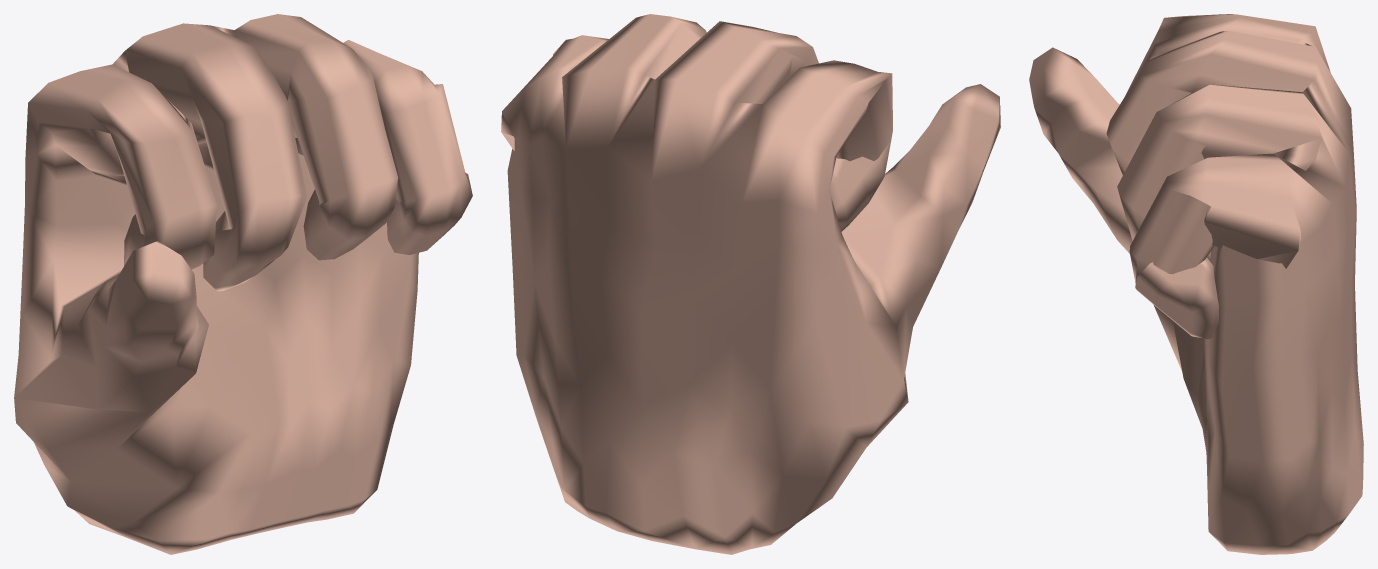
Rendered from O_CARACOL.obj.
The picture shows the model from 3 angles, left to right: view 1: azimuth 30°, elevation 25°; view 2: azimuth 150°, elevation 25°; view 3: azimuth 270°, elevation 25°; orthographic projection. The views are drawn at different scales.
Visible parts, largest first — view 1: mao_dir polySurface1; view 2: mao_dir polySurface1; view 3: mao_dir polySurface1.
Part boxes in pixels (box(x1,y1,x2,y2)): mao_dir polySurface1: box(14, 14, 472, 554); mao_dir polySurface1: box(501, 14, 1000, 554); mao_dir polySurface1: box(1029, 14, 1363, 554).
Size of the model in its own units: 130 by 154 by 103.
